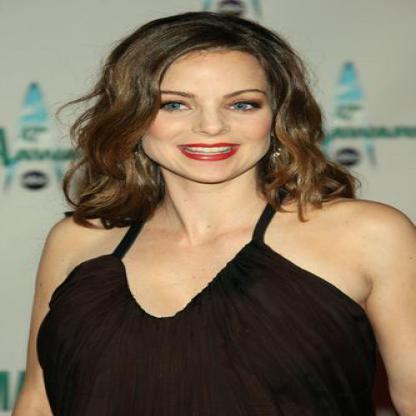long-hair: (44, 186, 341, 218)
